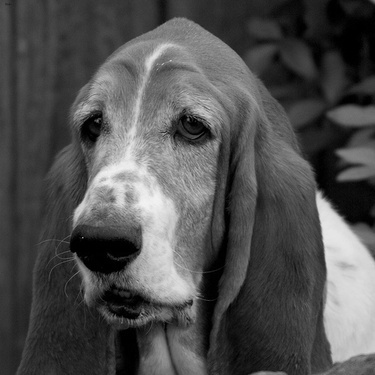dog: (10, 14, 370, 369)
